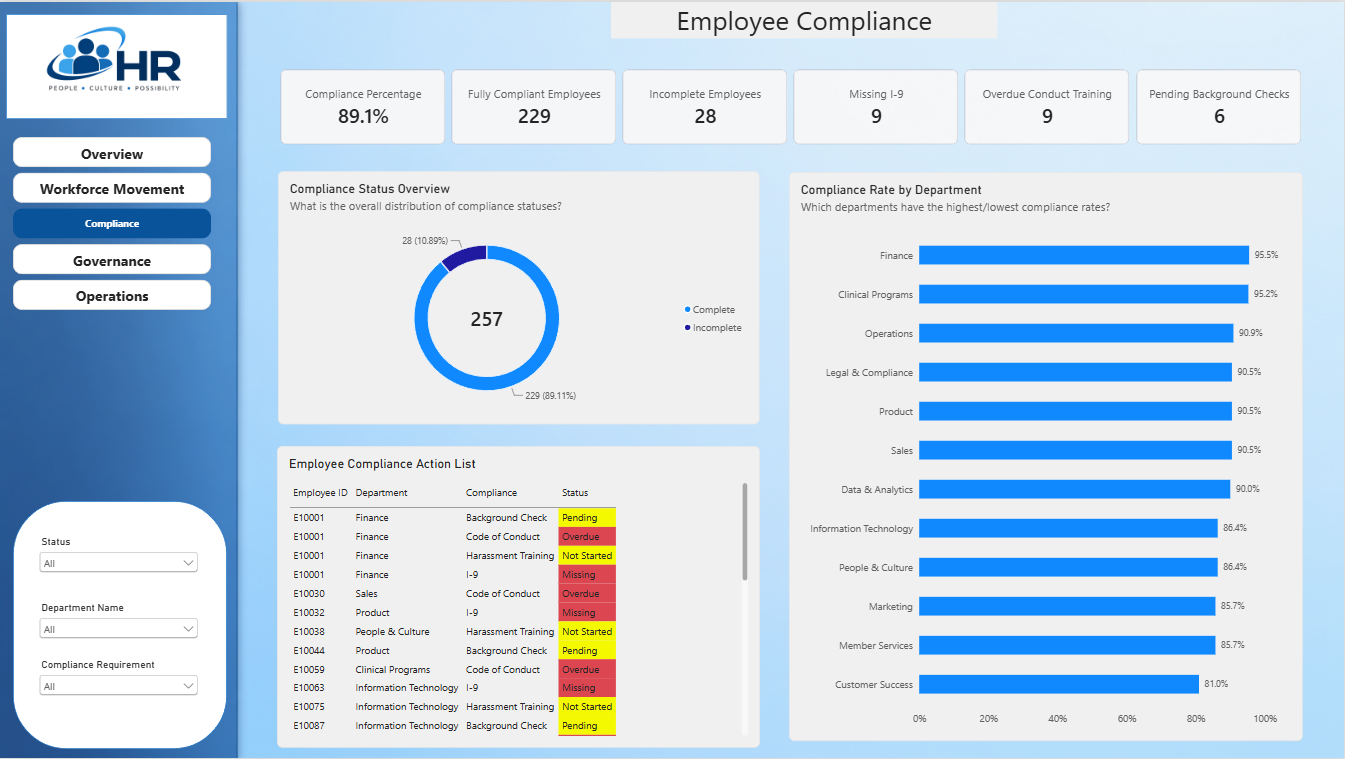

This screenshot's page, from the dashboard's own definition file:
{"tool":"powerbi","page":{"name":"Compliance","canvas":[1920,1080],"ordinal":2},"visuals":[{"type":"shape","box":[8.8,17.7,316.3,150.1],"z":0},{"type":"shape","box":[18.9,712.4,305.7,354.2],"z":1000},{"type":"textbox","box":[872.9,0,552.3,52.2],"z":2000},{"type":"donutChart","title":"Compliance Status Overview","fields":{"Category":["raw EmployeeCompliance.Master Overall Compliance Status"],"Y":["CountNonNull(raw EmployeeCompliance.Master Overall Compliance Status)"]},"box":[397.2,241.3,688.4,362.1],"z":3000},{"type":"barChart","title":"Compliance Rate by Department","fields":{"Category":["DimEmployee.Department_Name"],"Y":["_Measures.Compliance Percentage"]},"box":[1127.1,242.9,734.3,812.9],"z":4000},{"type":"cardVisual","fields":{"Data":["_Measures.Compliance Percentage"]},"box":[397.2,92.2,242,114.4],"z":5000},{"type":"cardVisual","fields":{"Data":["_Measures.Fully Compliant Employees"]},"box":[641.7,92.2,242,114.4],"z":6000},{"type":"cardVisual","fields":{"Data":["_Measures.Incomplete Employees"]},"box":[886.1,92.2,242,114.4],"z":7000},{"type":"cardVisual","fields":{"Data":["_Measures.Missing I-9"]},"box":[1130.5,92.2,242,114.4],"z":8000},{"type":"cardVisual","fields":{"Data":["_Measures.Overdue Conduct Training"]},"box":[1374.9,92.2,242,114.4],"z":9000},{"type":"slicer","fields":{"Values":["raw EmployeeCompliance.Master Overall Compliance Status"]},"box":[51.2,762.2,235.7,68.3],"z":10000},{"type":"slicer","fields":{"Values":["DimEmployee.Department_Name"]},"box":[51.2,857.8,235.7,68.3],"z":11000},{"type":"slicer","fields":{"Values":["Reporting_EmployeeComplianceAction.Compliance Requirement"]},"box":[51.2,938.6,235.7,68.3],"z":12000},{"type":"image","box":[0,0,325.1,150.1],"z":13000},{"type":"pageNavigator","box":[19.1,192.7,284,250.1],"z":14000},{"type":"cardVisual","fields":{"Data":["_Measures.Pending Background Checks"]},"box":[1619.4,92.2,242,114.4],"z":15000},{"type":"tableEx","title":"Employee Compliance Action List","fields":{"Values":["DimEmployee.Employee_ID","DimEmployee.Department_Name","Reporting_EmployeeComplianceAction.Compliance Requirement","Reporting_EmployeeComplianceAction.Requirement Status"]},"box":[395.7,634.3,690,431.4],"z":16000}]}

Visuals, with their boxes in screenshot pixels (x1, y1, x2, y2), scaled from the page's 1920x1080 canvas onto the 1345x759 screenshot:
shape: (6,12,228,118)
shape: (13,501,227,750)
textbox: (611,0,998,37)
"Compliance Status Overview" donutChart: (278,170,760,424)
"Compliance Rate by Department" barChart: (790,171,1304,742)
cardVisual - _Measures.Compliance Percentage: (278,65,448,145)
cardVisual - _Measures.Fully Compliant Employees: (450,65,619,145)
cardVisual - _Measures.Incomplete Employees: (621,65,790,145)
cardVisual - _Measures.Missing I-9: (792,65,961,145)
cardVisual - _Measures.Overdue Conduct Training: (963,65,1133,145)
slicer - raw EmployeeCompliance.Master Overall Compliance Status: (36,536,201,584)
slicer - DimEmployee.Department_Name: (36,603,201,651)
slicer - Reporting_EmployeeComplianceAction.Compliance Requirement: (36,660,201,708)
image: (0,0,228,105)
pageNavigator: (13,135,212,311)
cardVisual - _Measures.Pending Background Checks: (1134,65,1304,145)
"Employee Compliance Action List" tableEx: (277,446,761,749)
